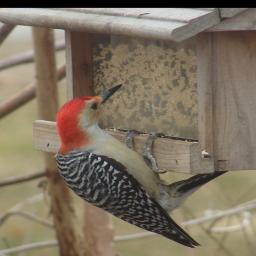Woodpecker: (47, 83, 217, 243)
